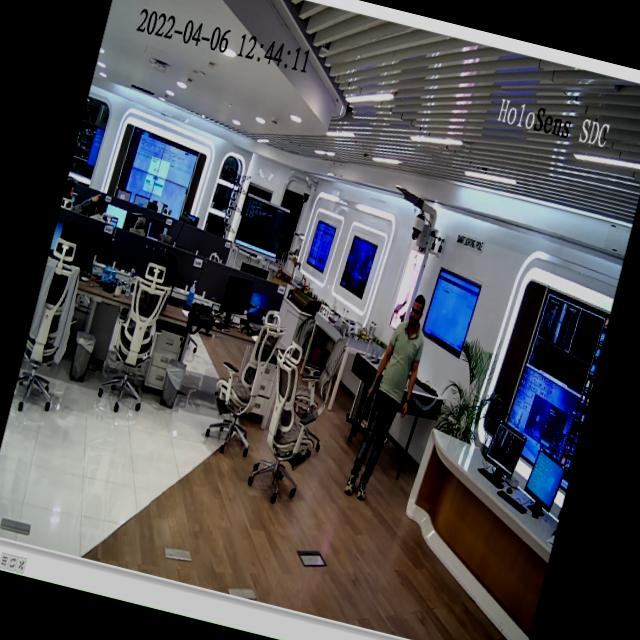long weapon: (350, 372, 382, 445)
